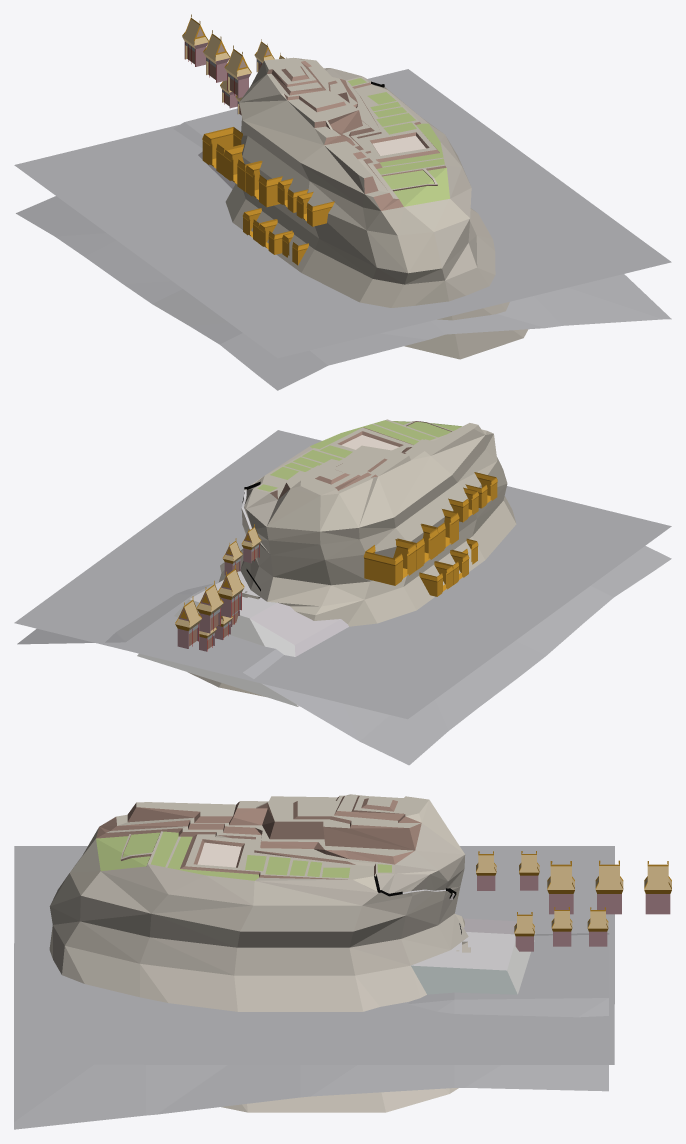
Rendered from sigiriya.glb.
3 views of the same model, one above another, from view 1: azimuth 30°, elevation 25°; view 2: azimuth 150°, elevation 25°; view 3: azimuth 270°, elevation 25° (orthographic). The views are drawn at different scales.
Parts seen in each view (by area): view 1: imagetostl_mesh47, imagetostl_mesh43, imagetostl_mesh688, imagetostl_mesh37, imagetostl_mesh110, imagetostl_mesh188, imagetostl_mesh46, imagetostl_mesh40, imagetostl_mesh682, imagetostl_mesh718, imagetostl_mesh13, imagetostl_mesh706 (+39 smaller); view 2: imagetostl_mesh47, imagetostl_mesh8, imagetostl_mesh6, imagetostl_mesh1155, imagetostl_mesh1152, imagetostl_mesh4, imagetostl_mesh682, imagetostl_mesh3, imagetostl_mesh688, imagetostl_mesh23, imagetostl_mesh690, imagetostl_mesh13 (+39 smaller); view 3: imagetostl_mesh47, imagetostl_mesh112, imagetostl_mesh46, imagetostl_mesh8, imagetostl_mesh31, imagetostl_mesh11, imagetostl_mesh21, imagetostl_mesh113, imagetostl_mesh104, imagetostl_mesh77, imagetostl_mesh10, imagetostl_mesh1156 (+61 smaller).
Boxes of the visible parts, left/top/right/bottom form: imagetostl_mesh47: left=14, top=69, right=671, bottom=358; imagetostl_mesh43: left=534, top=287, right=662, bottom=325; imagetostl_mesh688: left=301, top=249, right=372, bottom=302; imagetostl_mesh37: left=310, top=333, right=428, bottom=365; imagetostl_mesh110: left=445, top=281, right=523, bottom=359; imagetostl_mesh188: left=355, top=84, right=436, bottom=159; imagetostl_mesh46: left=572, top=274, right=667, bottom=315; imagetostl_mesh40: left=431, top=314, right=545, bottom=334; imagetostl_mesh682: left=242, top=136, right=309, bottom=193; imagetostl_mesh718: left=404, top=281, right=459, bottom=359; imagetostl_mesh13: left=84, top=240, right=130, bottom=283; imagetostl_mesh706: left=243, top=120, right=323, bottom=162; imagetostl_mesh47: left=14, top=430, right=671, bottom=719; imagetostl_mesh8: left=126, top=594, right=242, bottom=672; imagetostl_mesh6: left=243, top=649, right=359, bottom=741; imagetostl_mesh1155: left=137, top=599, right=297, bottom=706; imagetostl_mesh1152: left=250, top=602, right=340, bottom=644; imagetostl_mesh4: left=360, top=700, right=448, bottom=741; imagetostl_mesh682: left=396, top=483, right=468, bottom=541; imagetostl_mesh3: left=360, top=731, right=448, bottom=764; imagetostl_mesh688: left=472, top=501, right=516, bottom=559; imagetostl_mesh23: left=515, top=622, right=583, bottom=655; imagetostl_mesh690: left=364, top=587, right=416, bottom=623; imagetostl_mesh13: left=446, top=679, right=516, bottom=707; imagetostl_mesh47: left=14, top=846, right=614, bottom=1064; imagetostl_mesh112: left=234, top=975, right=385, bottom=1112; imagetostl_mesh46: left=23, top=1064, right=145, bottom=1128; imagetostl_mesh8: left=455, top=935, right=609, bottom=999; imagetostl_mesh31: left=157, top=1065, right=300, bottom=1114; imagetostl_mesh11: left=465, top=998, right=608, bottom=1091; imagetostl_mesh21: left=311, top=1000, right=454, bottom=1096; imagetostl_mesh113: left=234, top=947, right=354, bottom=975; imagetostl_mesh104: left=140, top=964, right=247, bottom=1111; imagetostl_mesh77: left=240, top=905, right=361, bottom=931; imagetostl_mesh10: left=455, top=998, right=608, bottom=1087; imagetostl_mesh1156: left=411, top=965, right=517, bottom=994.
Size of what is drawn, in the model's own units: 10039 by 4438 by 12743.
